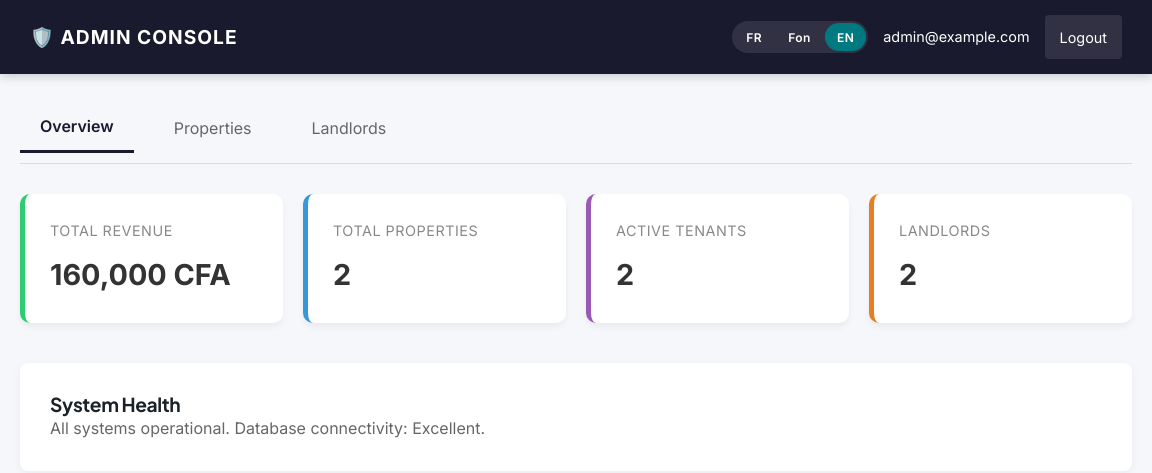
it: AdminDashboard › navigates to properties tab and shows property list
The image size is (1152, 473).
Expected: the text "160,000 CFA" is shown, [50,252,258,298]
Click the text "Properties" at [213, 128], box [174,118,252,138]
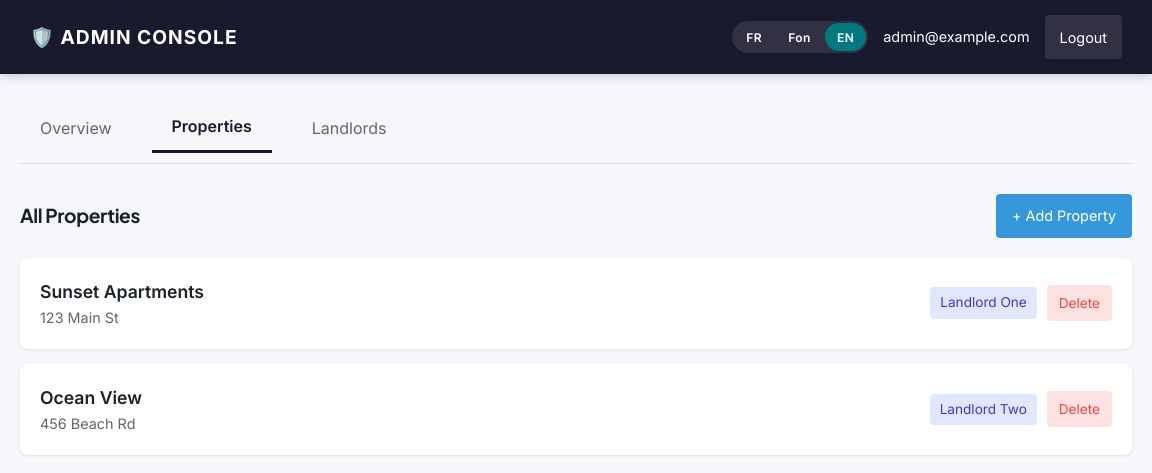
Expected: the text "Sunset Apartments" is shown, [40,281,204,302]
Expected: the text "123 Main St" is shown, [40,309,119,326]
Expected: the text "Ocean View" is shown, [40,387,142,408]
